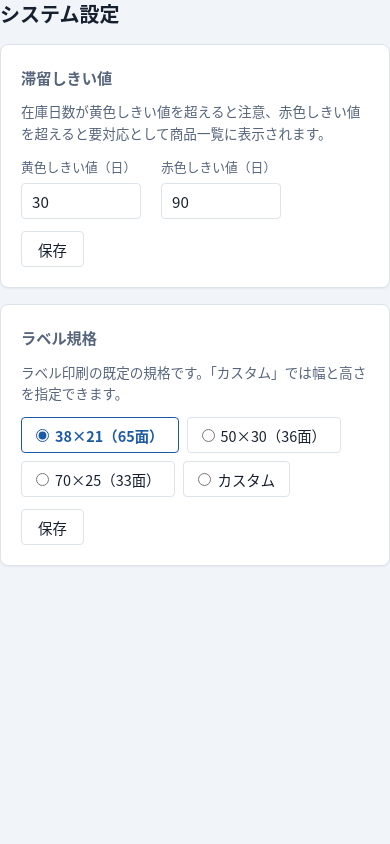
slow-move thresholds › rejects a non-numeric or out-of-range value without any PUT
Replace the text in the number field with class "settings-input" showing "黄色しきい値（日）" with "abc" at [81, 201], box x1=21 y1=183 x2=141 y2=219
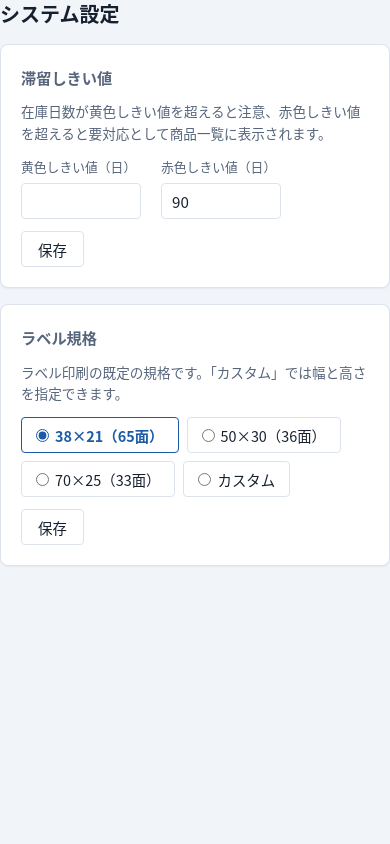
Click the button with class "settings-save" below "黄色しきい値（日）" at [52, 249], box x1=21 y1=231 x2=84 y2=267
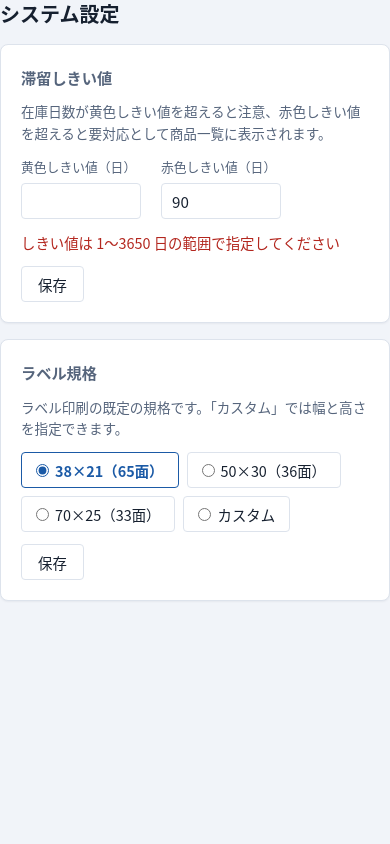
Now the text with class "settings-error" reads "しきい値は 1〜3650 日の範囲で指定してください", box x1=21 y1=232 x2=340 y2=253
